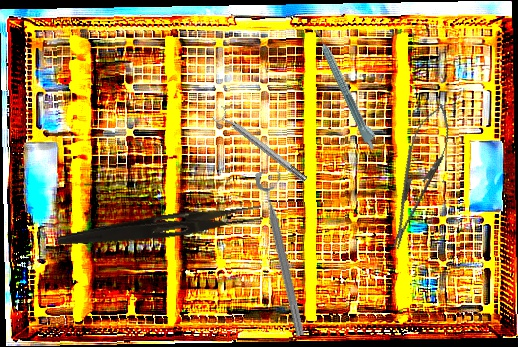Dressing Forceps: (56, 197, 264, 257)
Fixation Ring: (253, 167, 319, 338), (211, 104, 311, 188)
Handpiece: (312, 25, 382, 152)
Needle Holder: (378, 98, 459, 254)
